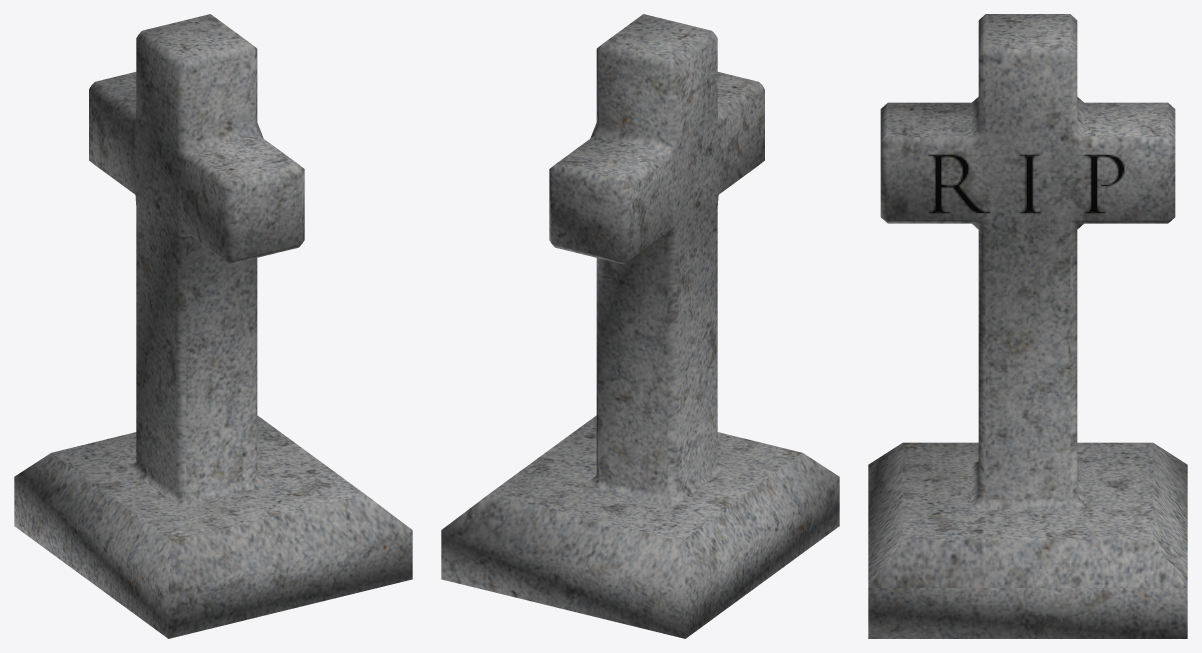
Rendered from Tombstone2.fbx.
3 views of the same model, side by side, from view 1: azimuth 30°, elevation 25°; view 2: azimuth 150°, elevation 25°; view 3: azimuth 270°, elevation 25° (orthographic). The views are drawn at different scales.
Visible parts, largest first — view 1: Cube; view 2: Cube; view 3: Cube.
Boxes of the visible parts, x1,y1,x2,y2 form: Cube: [14, 14, 412, 638]; Cube: [441, 14, 839, 638]; Cube: [868, 14, 1187, 638].
Bounding box in the file's own units: 183 × 371 × 200.
Materials: 1 (1 with a texture image).
